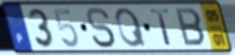3: (27, 7, 56, 49)
5: (52, 7, 81, 49)
B: (174, 7, 209, 48)
Q: (114, 6, 149, 49)
S: (85, 6, 118, 50)
T: (148, 8, 174, 47)
